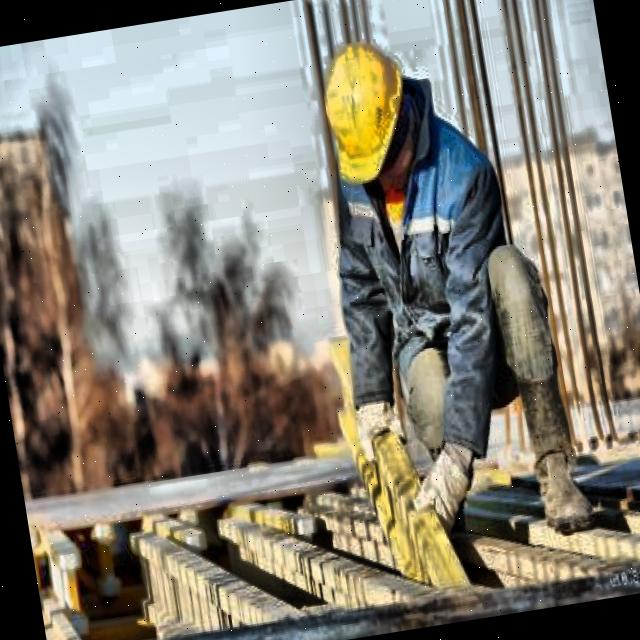helmet: (306, 28, 432, 210)
